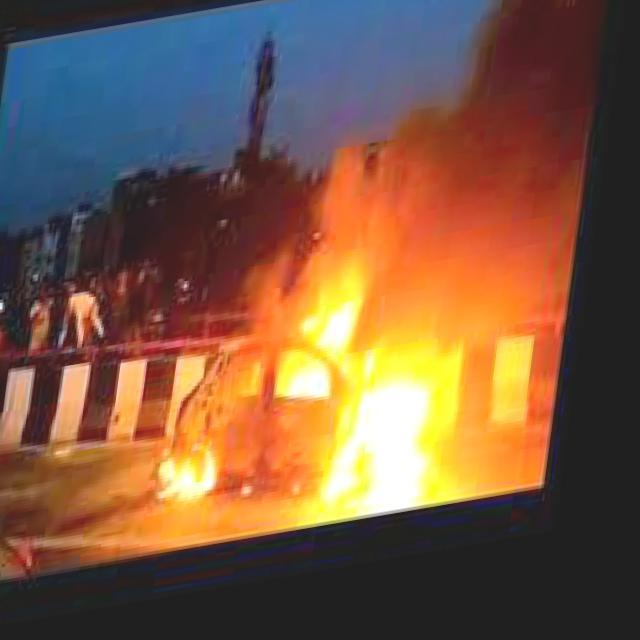Fire: (164, 262, 492, 554)
